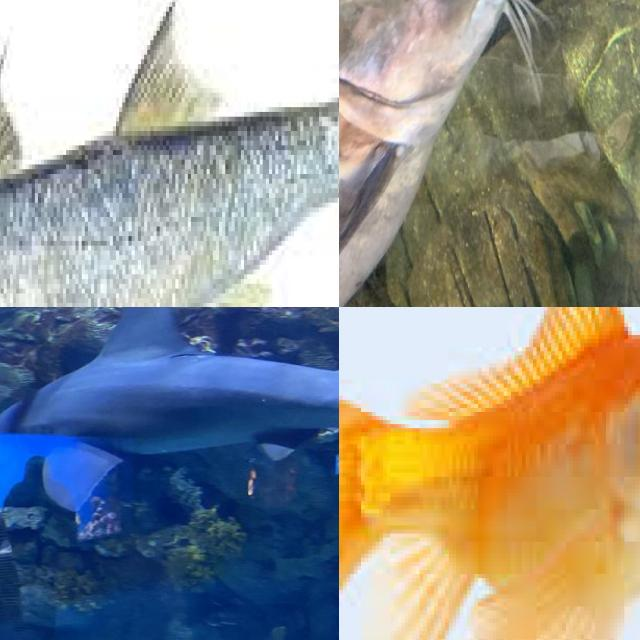fish: (0, 0, 339, 307), (339, 307, 640, 640), (339, 0, 548, 307)
